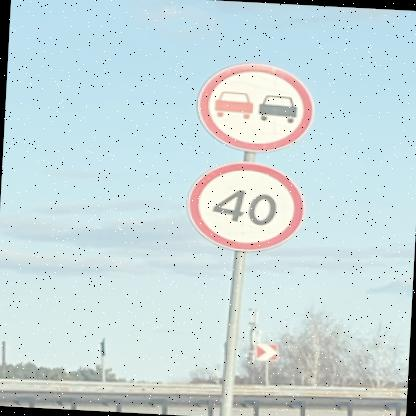speedlimit: (181, 158, 304, 253)
